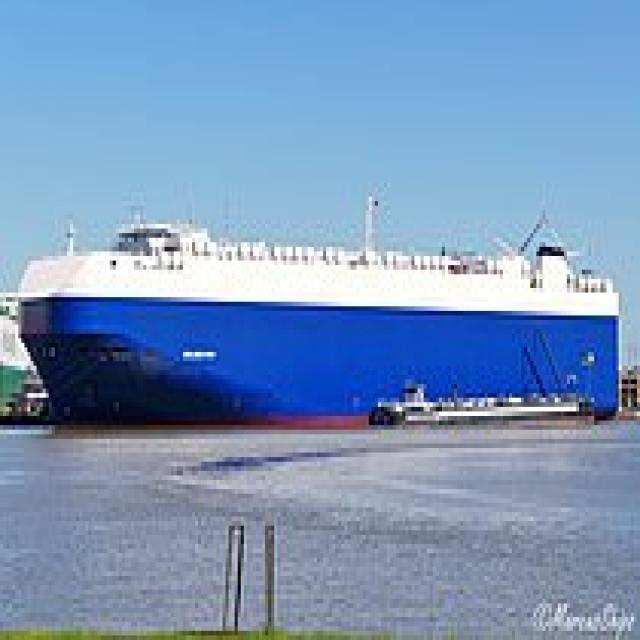Carrier: (12, 219, 619, 430)
